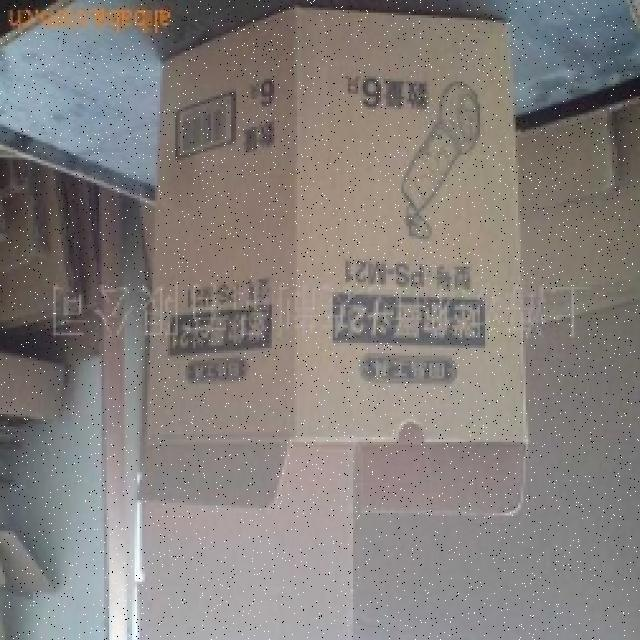box: (146, 4, 537, 525)
